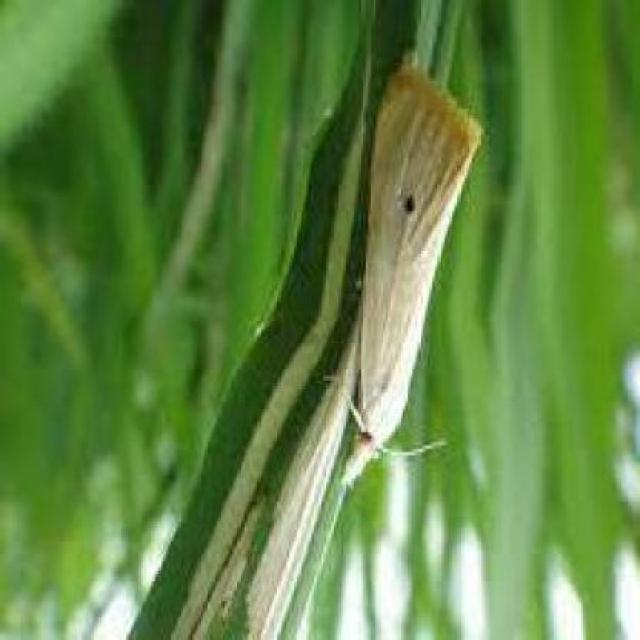stem-borer: (337, 56, 488, 498)
